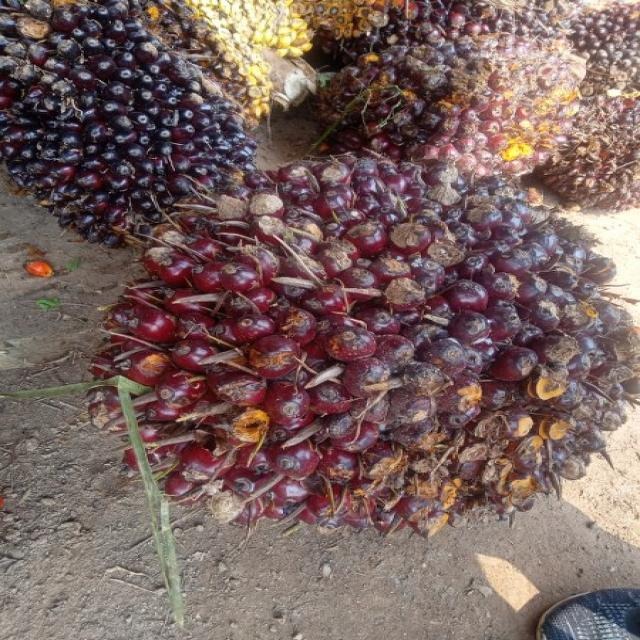fraksi 1: (106, 143, 626, 538)
